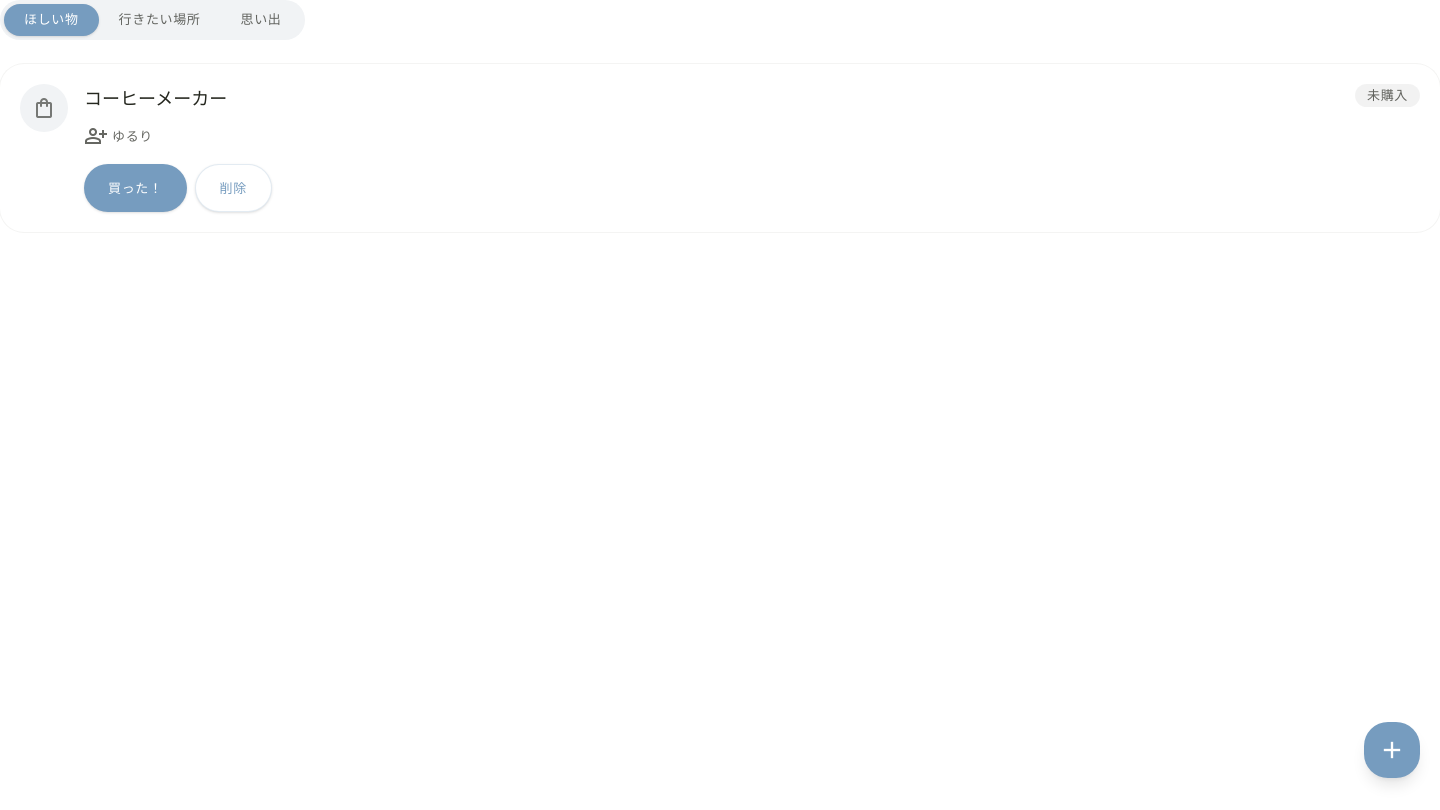
Test: WishlistBoard 統合 › 行きたい場所タブに切り替えると place のみを出す
Expected: the button "コーヒーメーカー" is shown, [84, 84, 227, 112]
What coordinates should you click on to do the following:
click the radio button labelled "行きたい場所"
I would click on:
 (160, 20)
Its box is [99, 4, 220, 36].
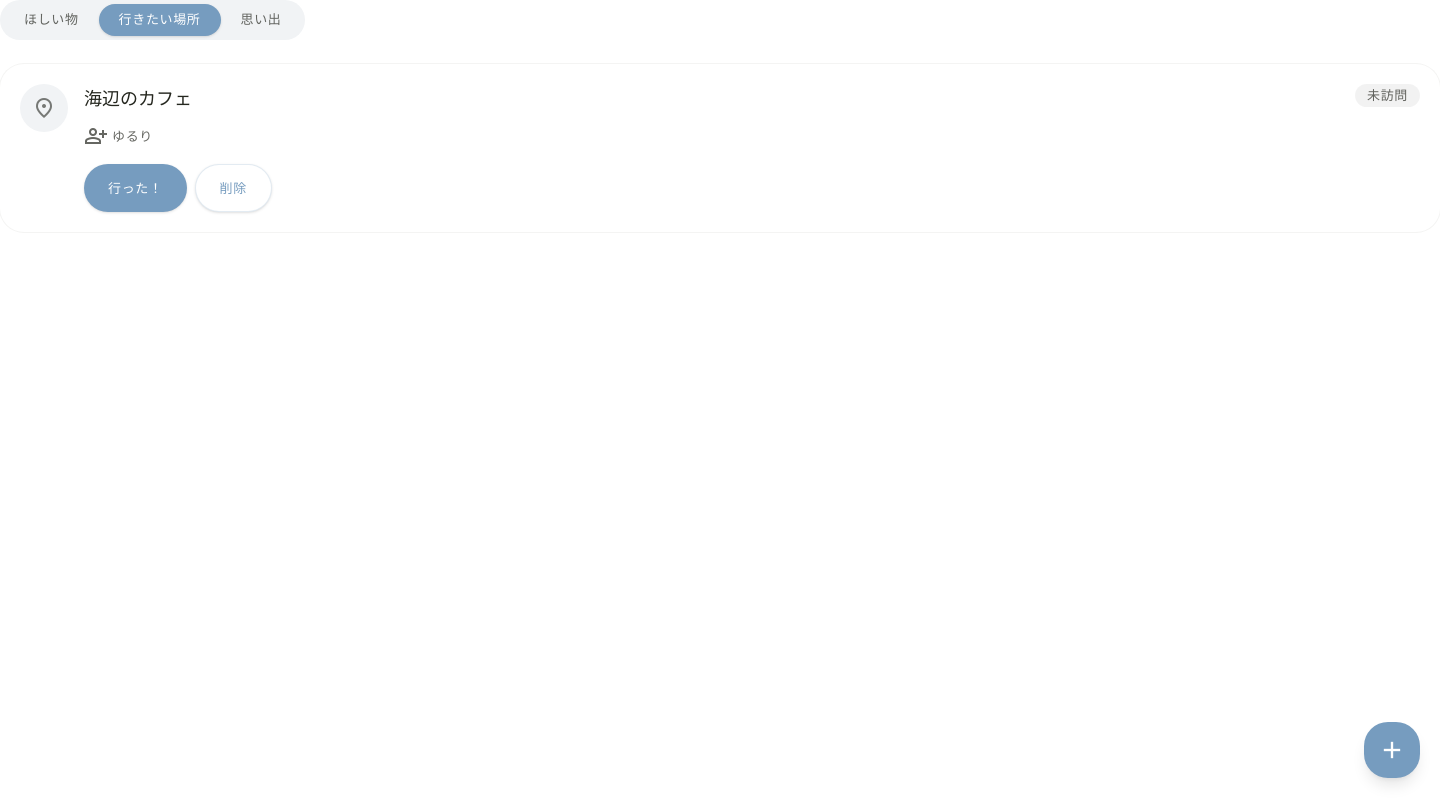
Expected: the button "海辺のカフェ" is shown, [84, 84, 192, 112]
Expected: the button "コーヒーメーカー" is gone
